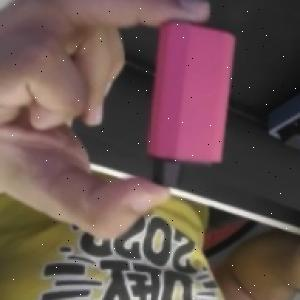Blume-E-Ciggirate: (145, 20, 238, 186)
